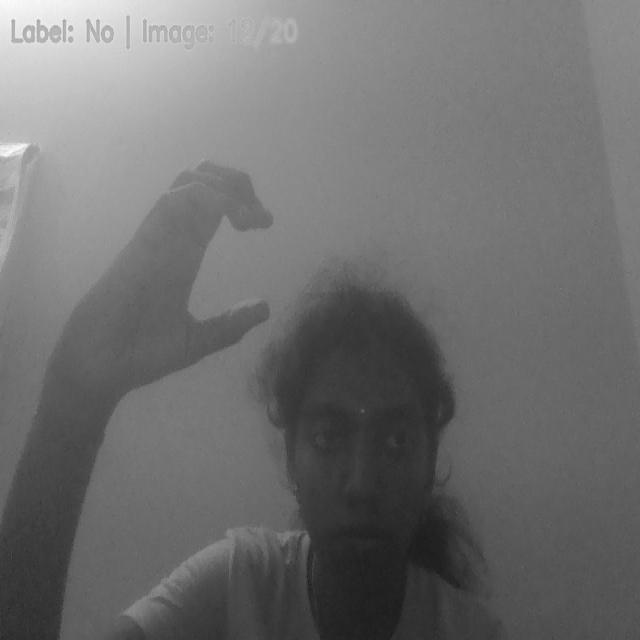No: (60, 162, 280, 414)
